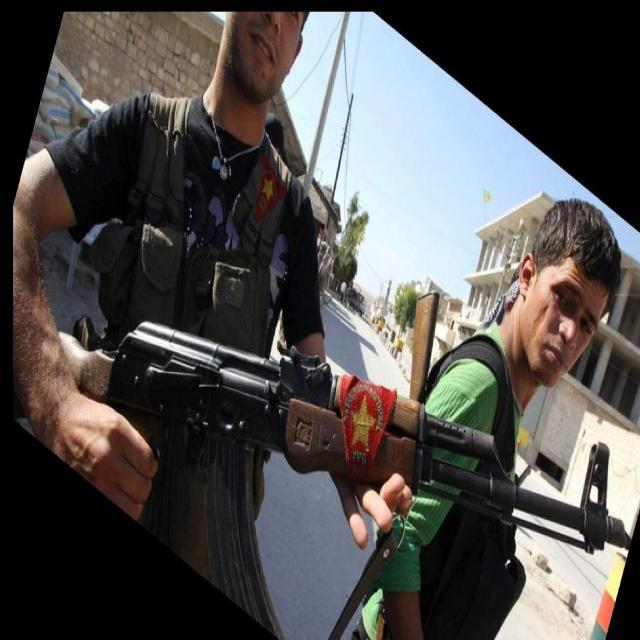weapon: (52, 321, 633, 558), (408, 291, 441, 416)
